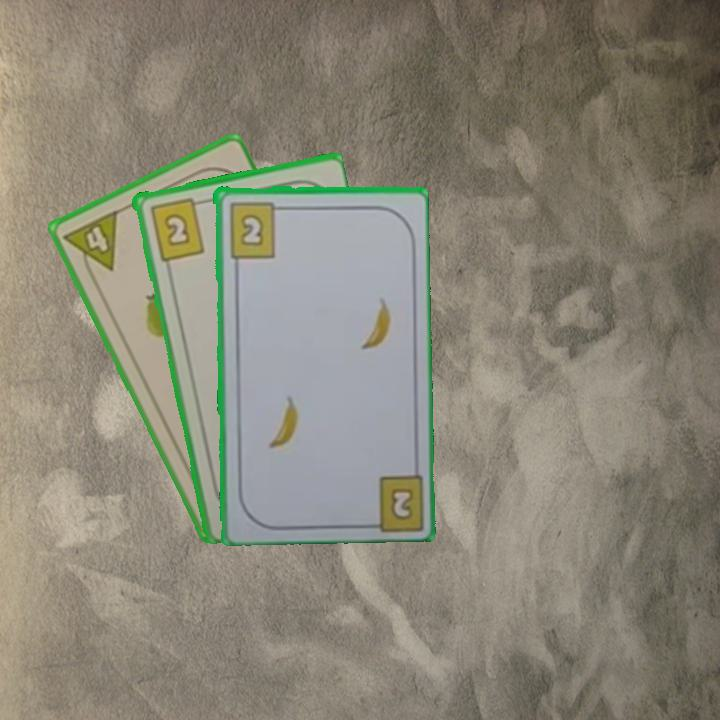2b: (146, 194, 207, 263), (225, 198, 287, 260), (389, 487, 413, 519)
4p: (60, 206, 120, 283)
